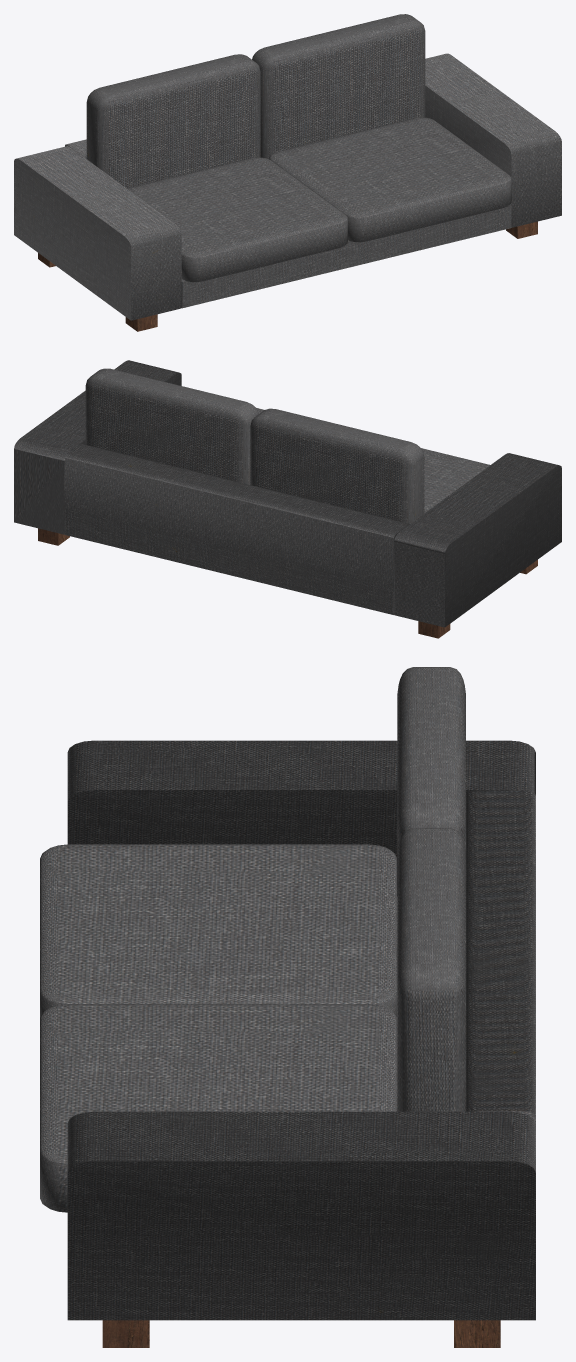
The model's file is gray_sofa.glb.
The picture shows the model from 3 angles, top to bottom: view 1: azimuth 30°, elevation 25°; view 2: azimuth 150°, elevation 25°; view 3: azimuth 270°, elevation 25°; orthographic projection. The views are drawn at different scales.
Visible parts, largest first — view 1: Object_3, Object_2; view 2: Object_3, Object_2; view 3: Object_3, Object_2.
Boxes of the visible parts, <box> form: Object_3: <box>14,14,561,320</box>; Object_2: <box>38,221,537,331</box>; Object_3: <box>14,360,561,627</box>; Object_2: <box>38,528,537,638</box>; Object_3: <box>40,667,535,1320</box>; Object_2: <box>102,1320,500,1347</box>.
Bounding box in the file's own units: 17 × 6.33 × 8.47.
Materials: 2 (2 with a texture image).
